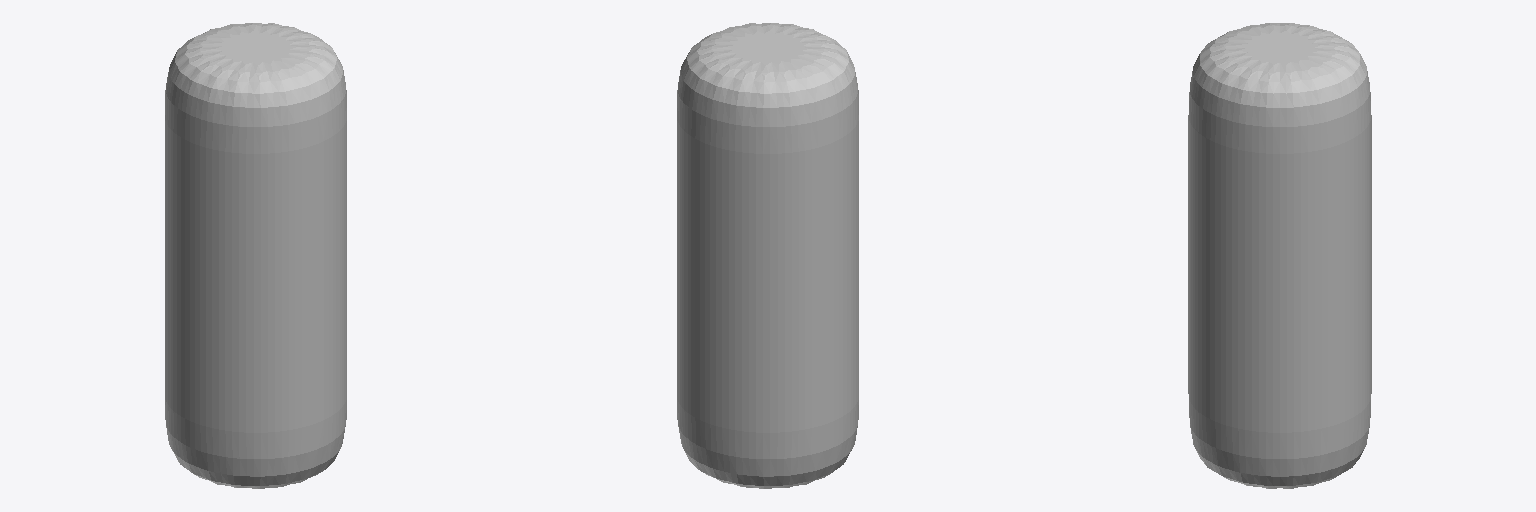
File: luleg.obj
3 views of the same model, side by side, from view 1: azimuth 30°, elevation 25°; view 2: azimuth 150°, elevation 25°; view 3: azimuth 270°, elevation 25° (orthographic).
Parts seen in each view (by area): view 1: pCylinder3; view 2: pCylinder3; view 3: pCylinder3.
Boxes of the visible parts, x1,y1,x2,y2 form: pCylinder3: [165, 23, 346, 488]; pCylinder3: [677, 23, 858, 488]; pCylinder3: [1188, 23, 1371, 488].
Bounding box in the file's own units: 0.6974 × 1.75 × 0.6974.